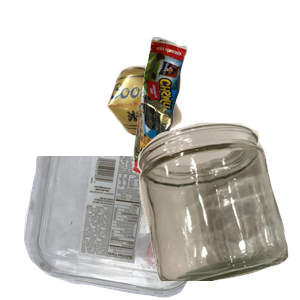glass: (135, 120, 300, 300)
metal: (105, 63, 300, 192)
plastic: (21, 156, 226, 300)
trash: (130, 34, 300, 203)
